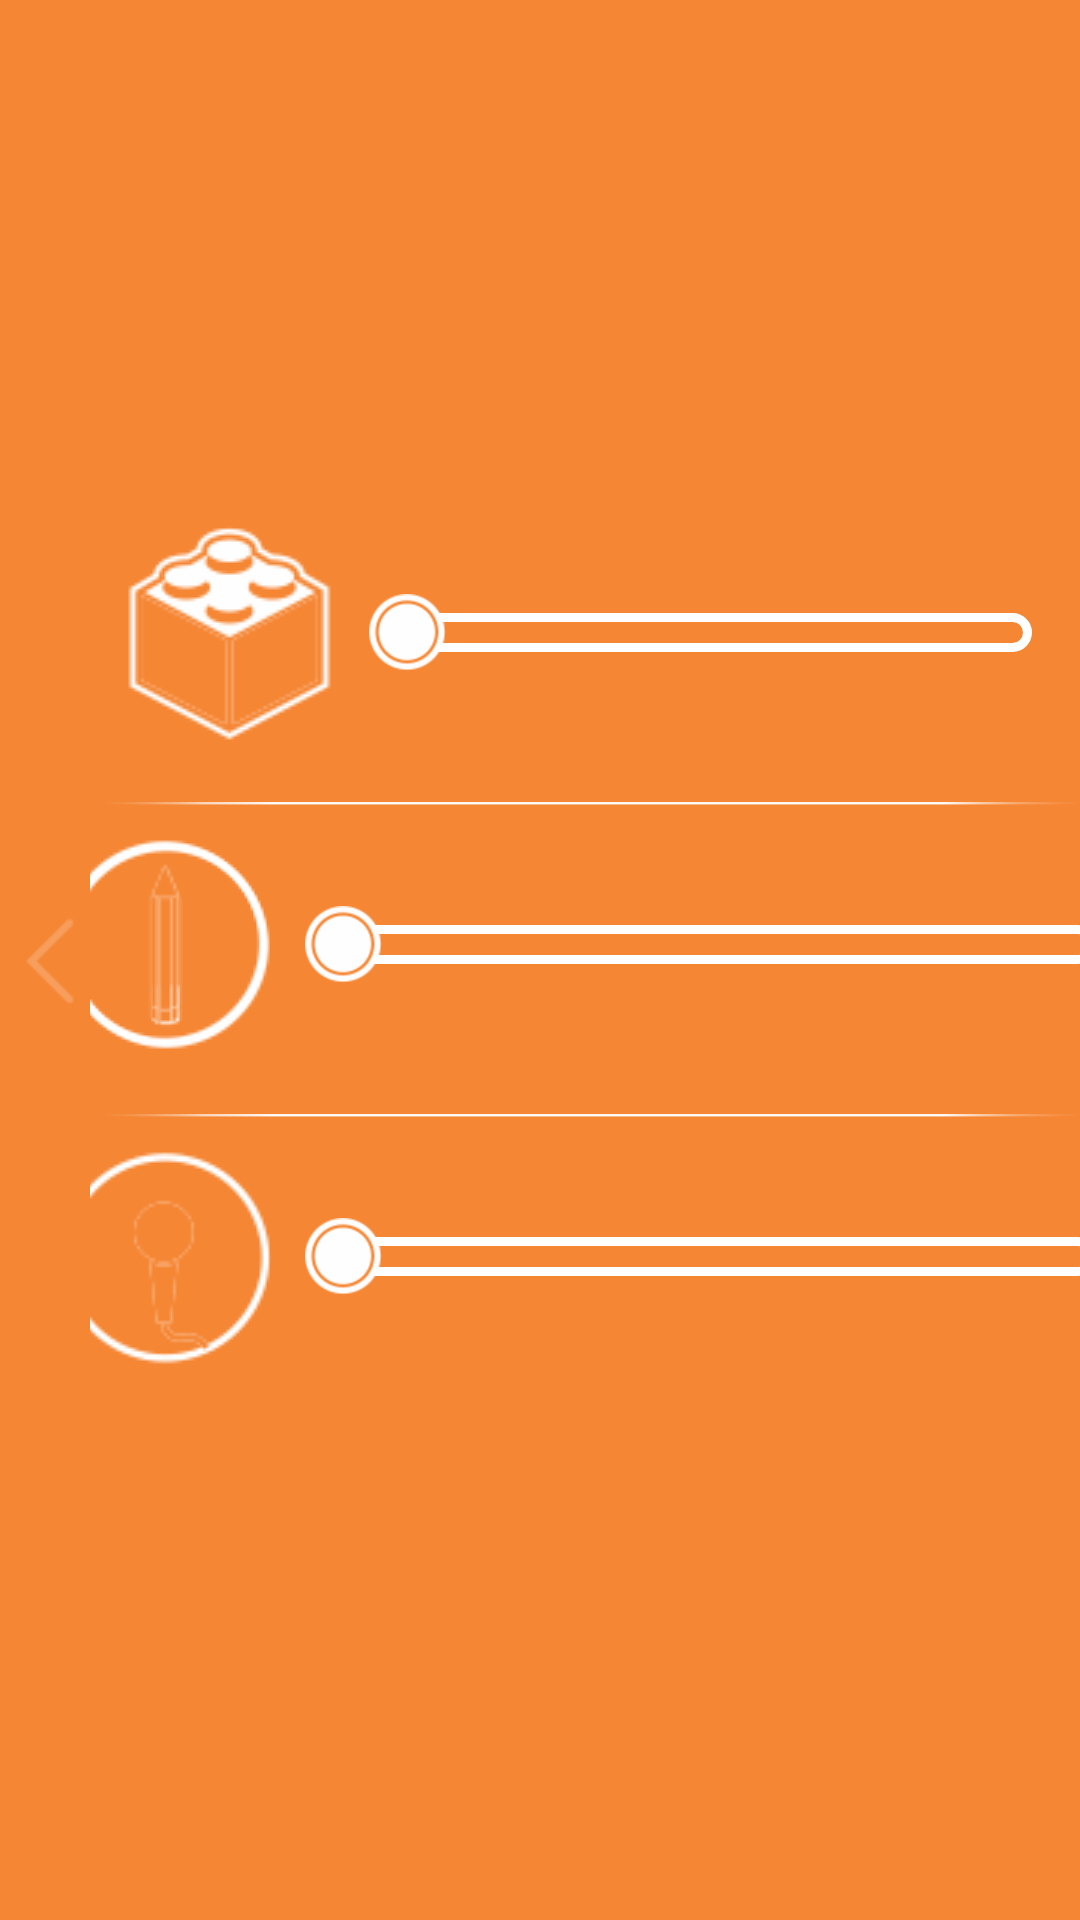

Screen size 1080px x 1920px. Icon name, then its center in pixels as point (x, y):
arrow back: point (50, 961)
